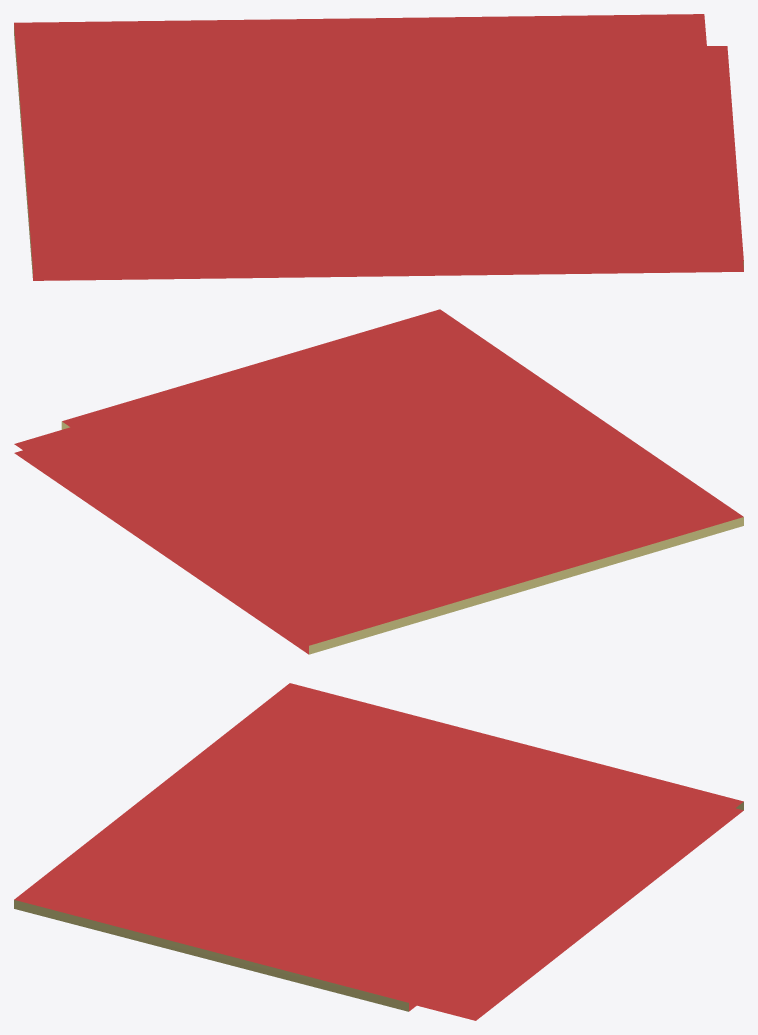
3 renders of one model, top to bottom at view 1: azimuth 30°, elevation 25°; view 2: azimuth 150°, elevation 25°; view 3: azimuth 270°, elevation 25°, orthographic. The views are drawn at different scales.
Bounding box in the file's own units: 7.48 × 7.35 × 0.27.
